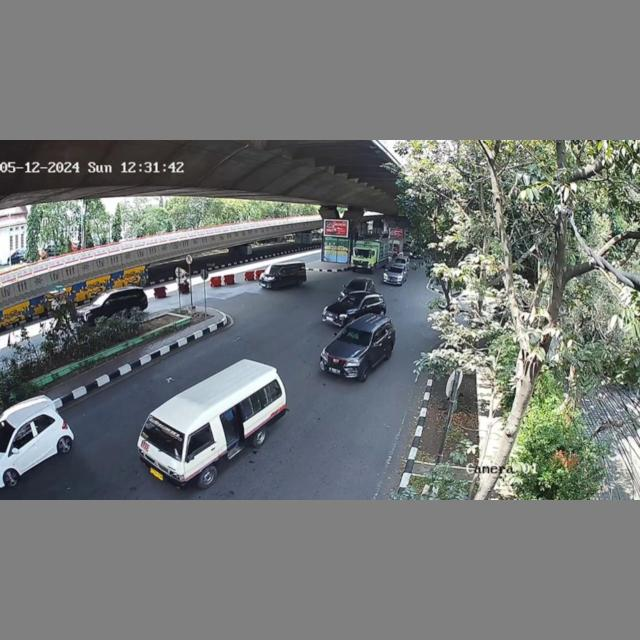windshield: (139, 413, 186, 460), (338, 325, 373, 347)
